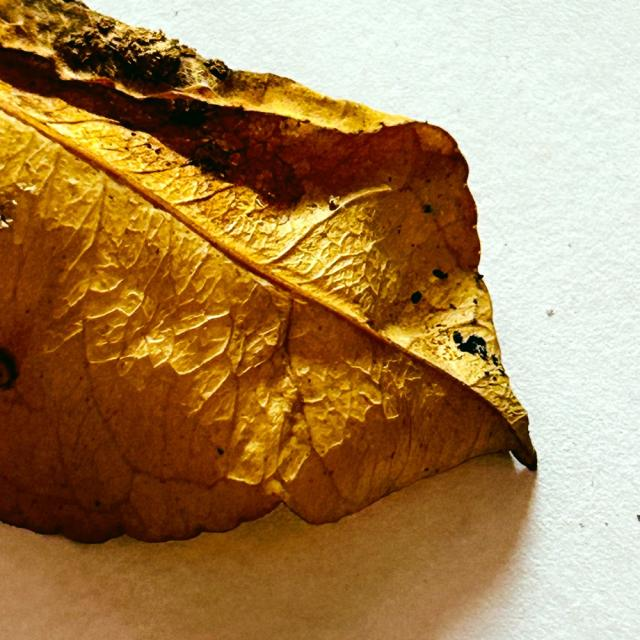DryLeaf_Lemon: (0, 0, 536, 541)
